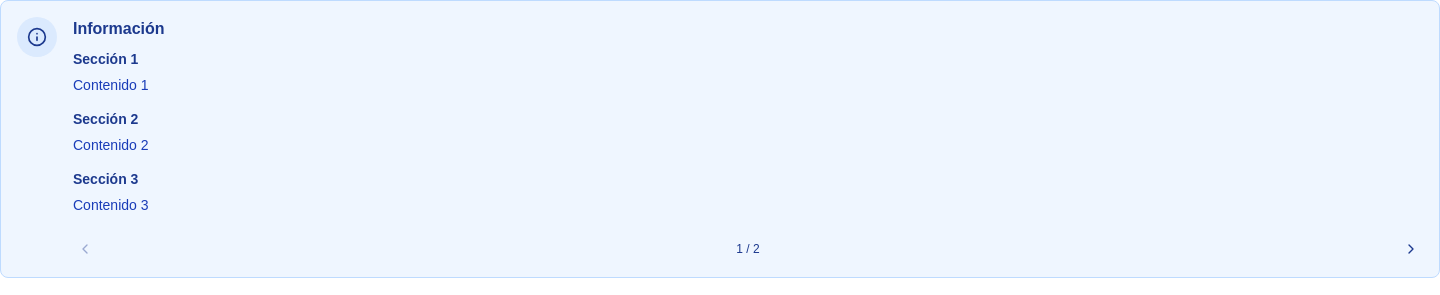
InfoBanner › pagination › disables the pagination buttons at the boundaries
Expected: the button named "Secciones anteriores" is disabled, [73,237,97,261]
What coordinates should you click on to do the following:
click the button named "Siguientes secciones"
I would click on:
 (1411, 249)
Its box is [1399,237,1423,261].
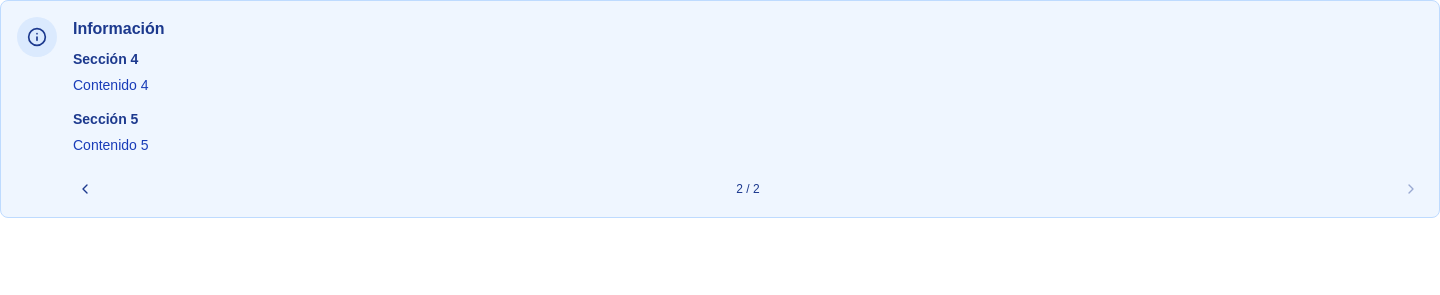
Result: the button named "Siguientes secciones" is disabled at [1399,177,1423,201]
